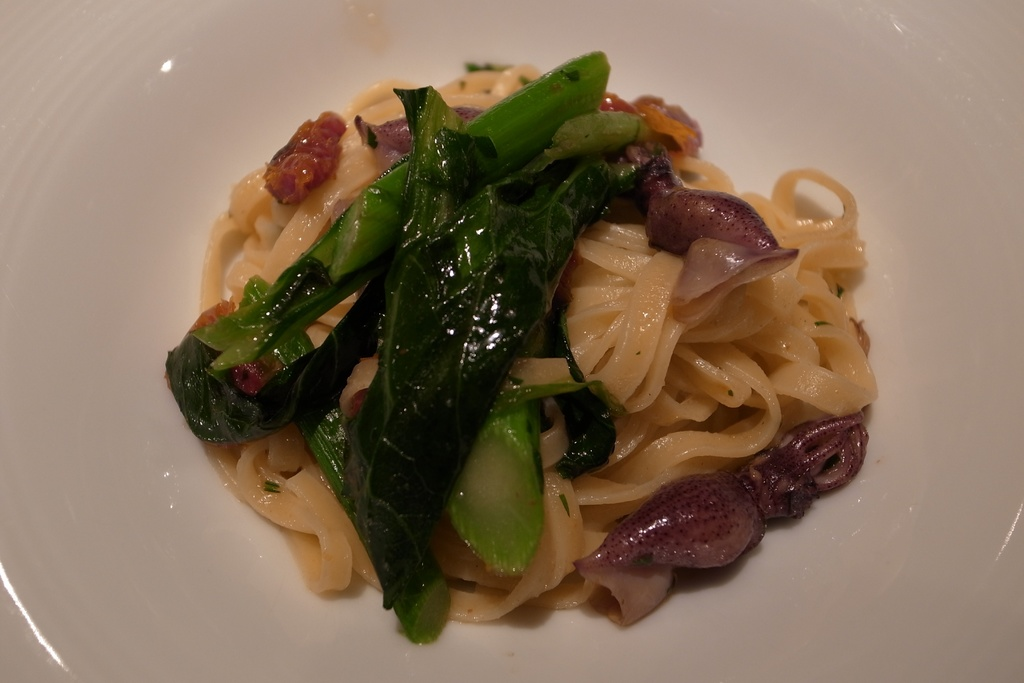pasta: (166, 32, 879, 595)
